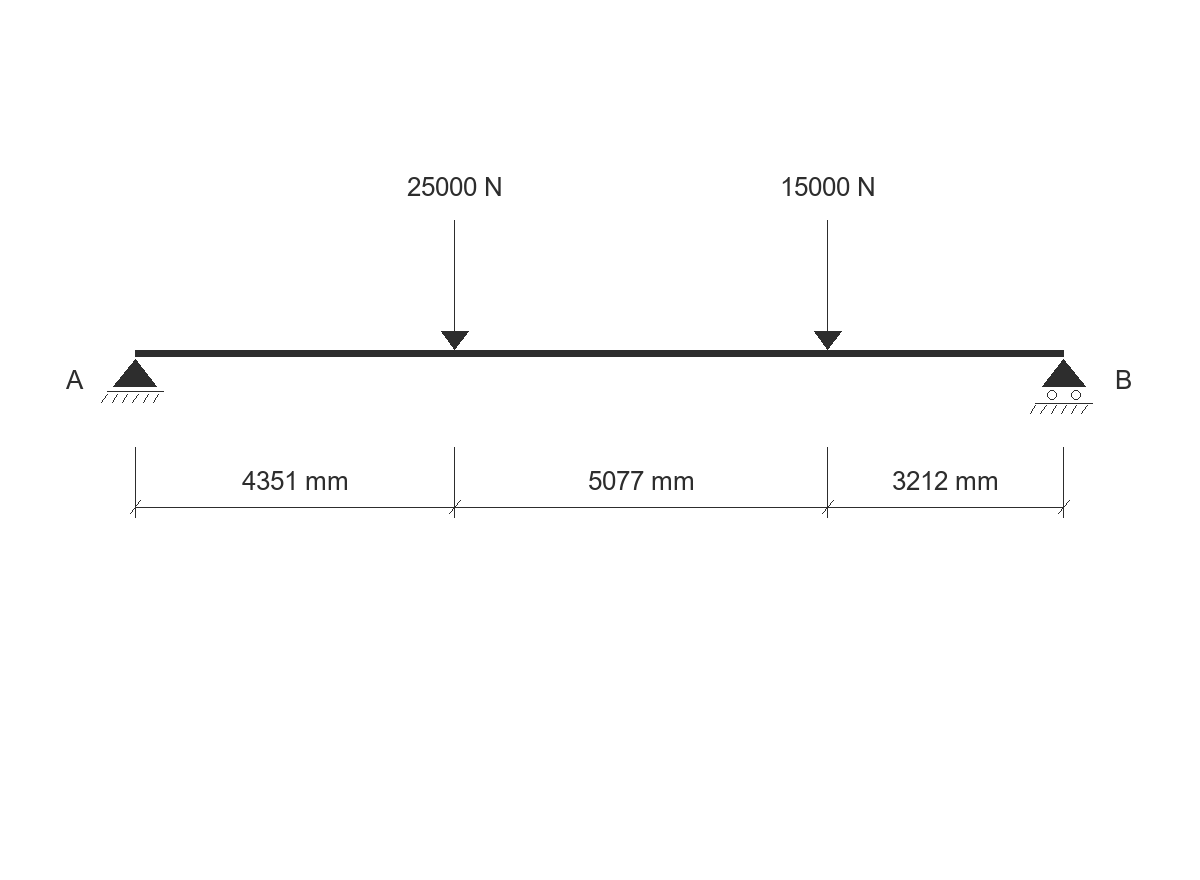pin_support: (101, 359, 164, 403)
point_load: (441, 220, 469, 350), (814, 220, 842, 350)
roller_support: (1030, 359, 1093, 414)
